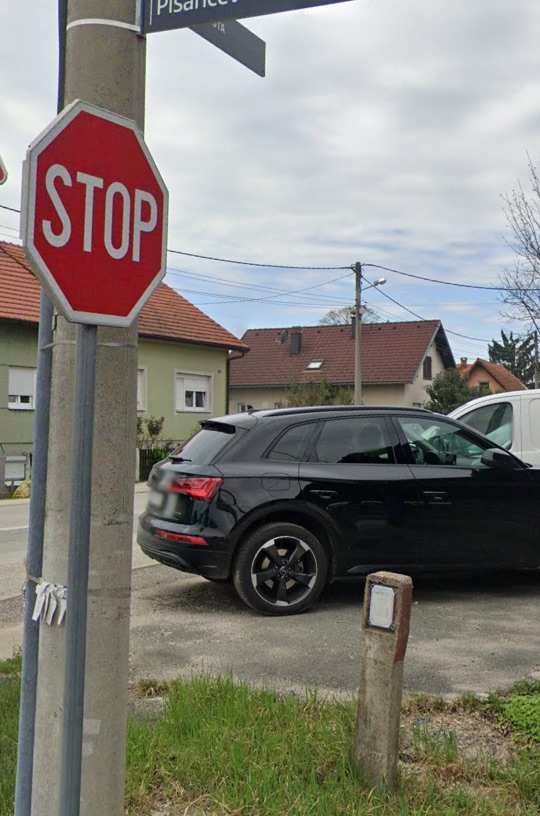Obavezno zaustavljanje: (28, 97, 169, 326)
